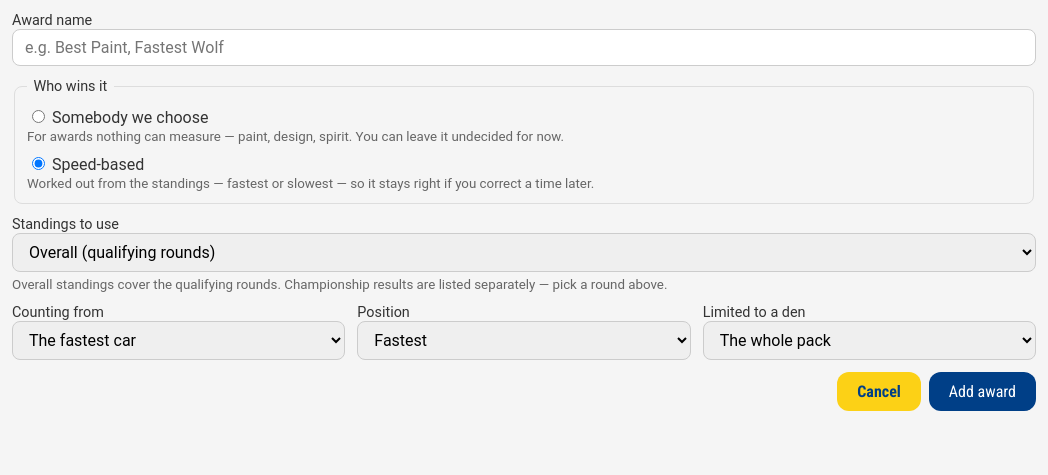
Test case: AwardForm › falls back to the generic hint once the operator edits the name by hand
The image size is (1048, 475).
Click the radio button labelled "Somebody we choose" at point(38, 116), box [32,110,45,123]
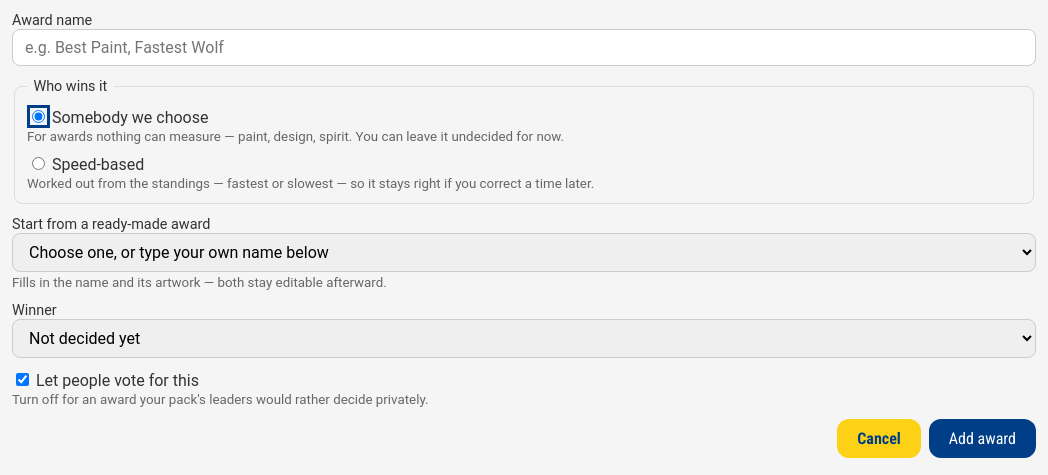
Select "Best Paint" in the dropdown labelled "Start from a ready-made award" at point(524, 253), box [12,233,1036,272]
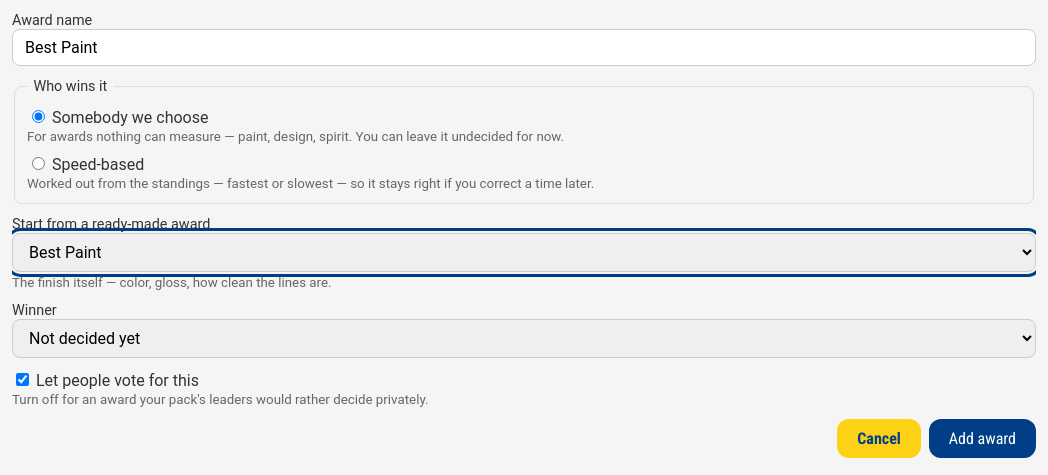
Type "!" into the field labelled "Award name" at point(524, 48), box [12,29,1036,66]
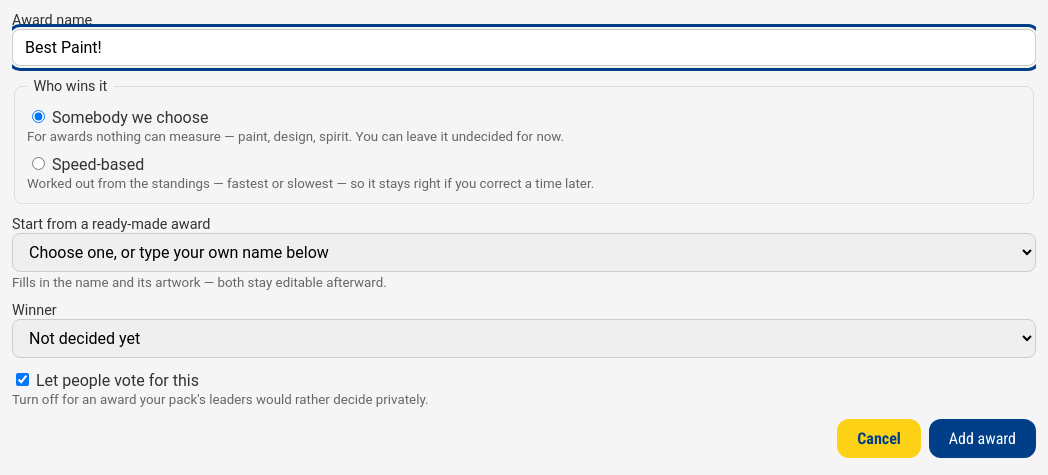
Expected: the text "Fills in the name and its artwork — both stay editable afterward." is shown, [12,275,387,290]
